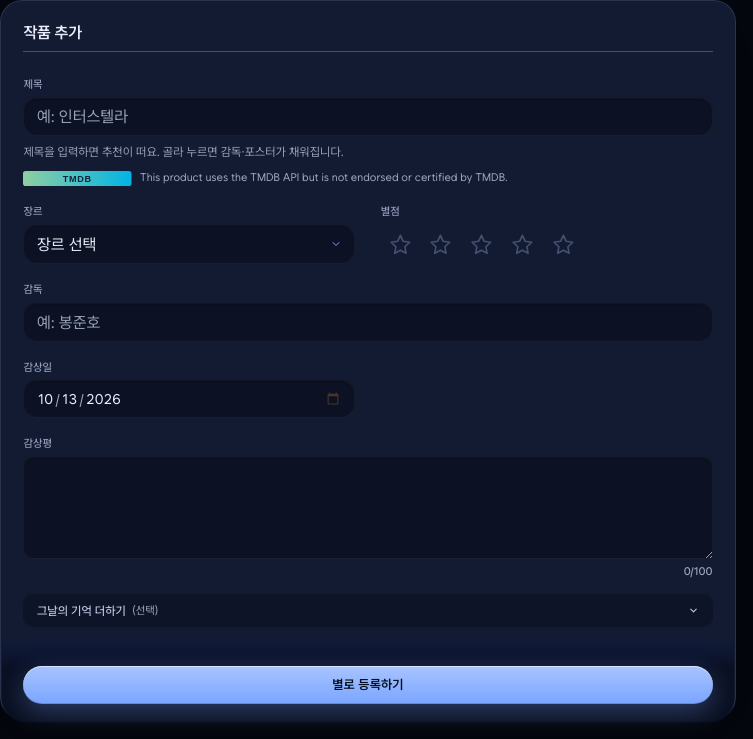
AddWorkForm TMDB autocomplete › drops the picked poster when the title is edited afterward
In the dropdown labelled "제목": (368, 117) [23, 98, 713, 136], type "기생충"
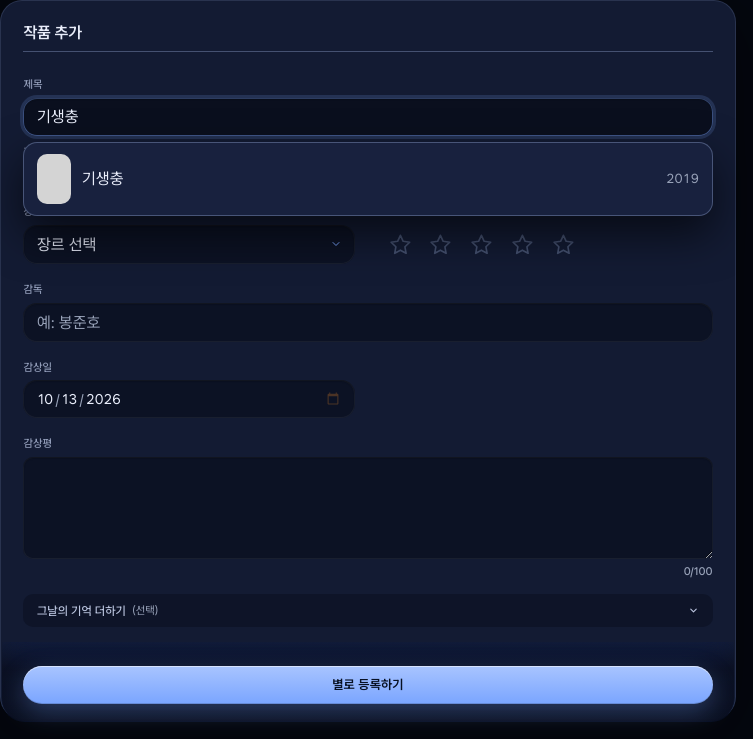
Click the option "기생충 2019": (54, 179) [29, 148, 707, 210]
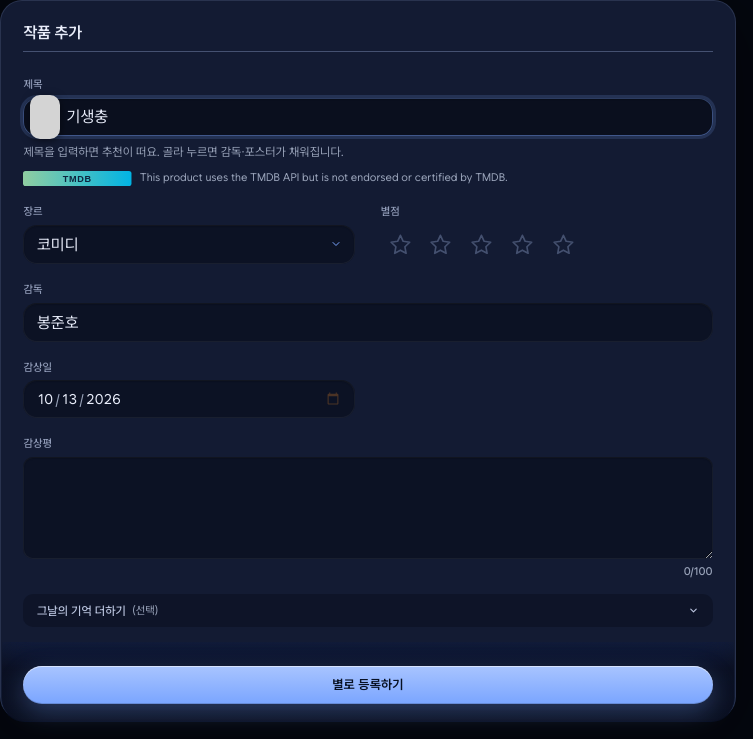
In the dropdown labelled "제목": (368, 117) [23, 98, 713, 136], type "2"
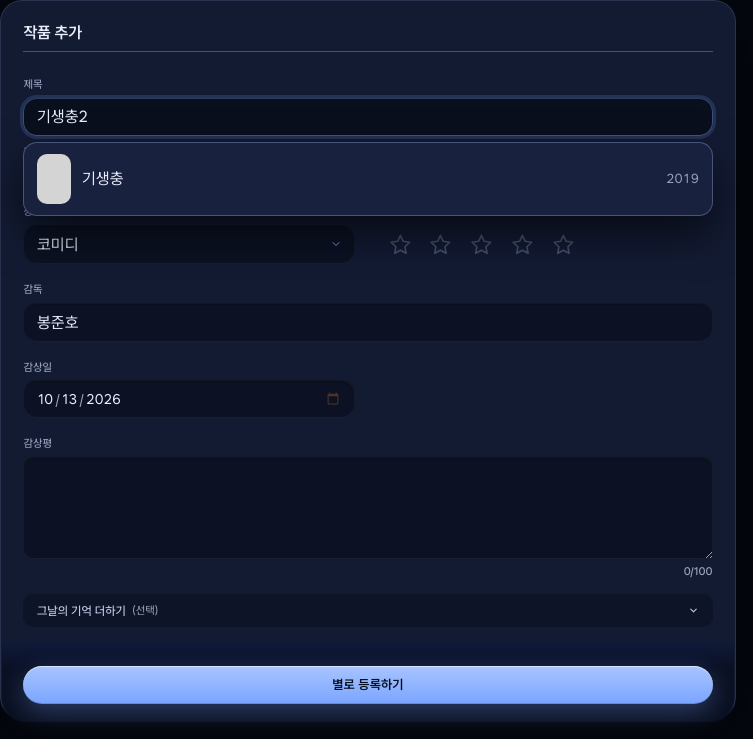
Expected: the picture with class "autocomplete-poster-thumb" is gone
